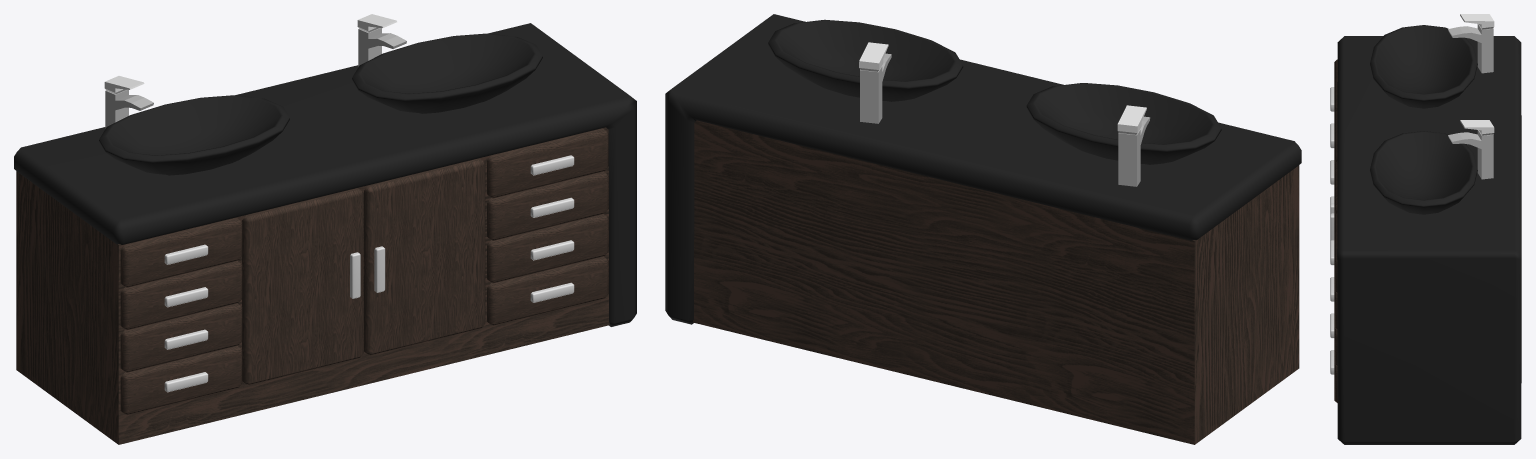
File: bathroom_033.fbx
3 views of the same model, side by side, from view 1: azimuth 30°, elevation 25°; view 2: azimuth 150°, elevation 25°; view 3: azimuth 270°, elevation 25° (orthographic). The views are drawn at different scales.
Parts seen in each view (by area): view 1: bathroom_033; view 2: bathroom_033; view 3: bathroom_033.
Boxes of the visible parts, <box> form: bathroom_033: <box>14,14,636,444</box>; bathroom_033: <box>665,14,1301,444</box>; bathroom_033: <box>1330,14,1521,444</box>.
Bounding box in the file's own units: 231 × 85.35 × 123.
